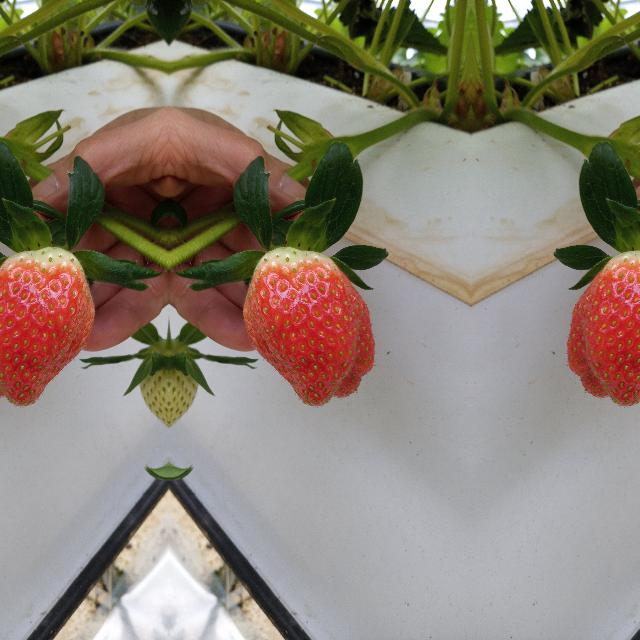Health_100: (242, 245, 376, 408), (0, 244, 93, 407), (565, 244, 640, 407)
Health_25: (168, 329, 206, 436), (130, 329, 168, 436)
